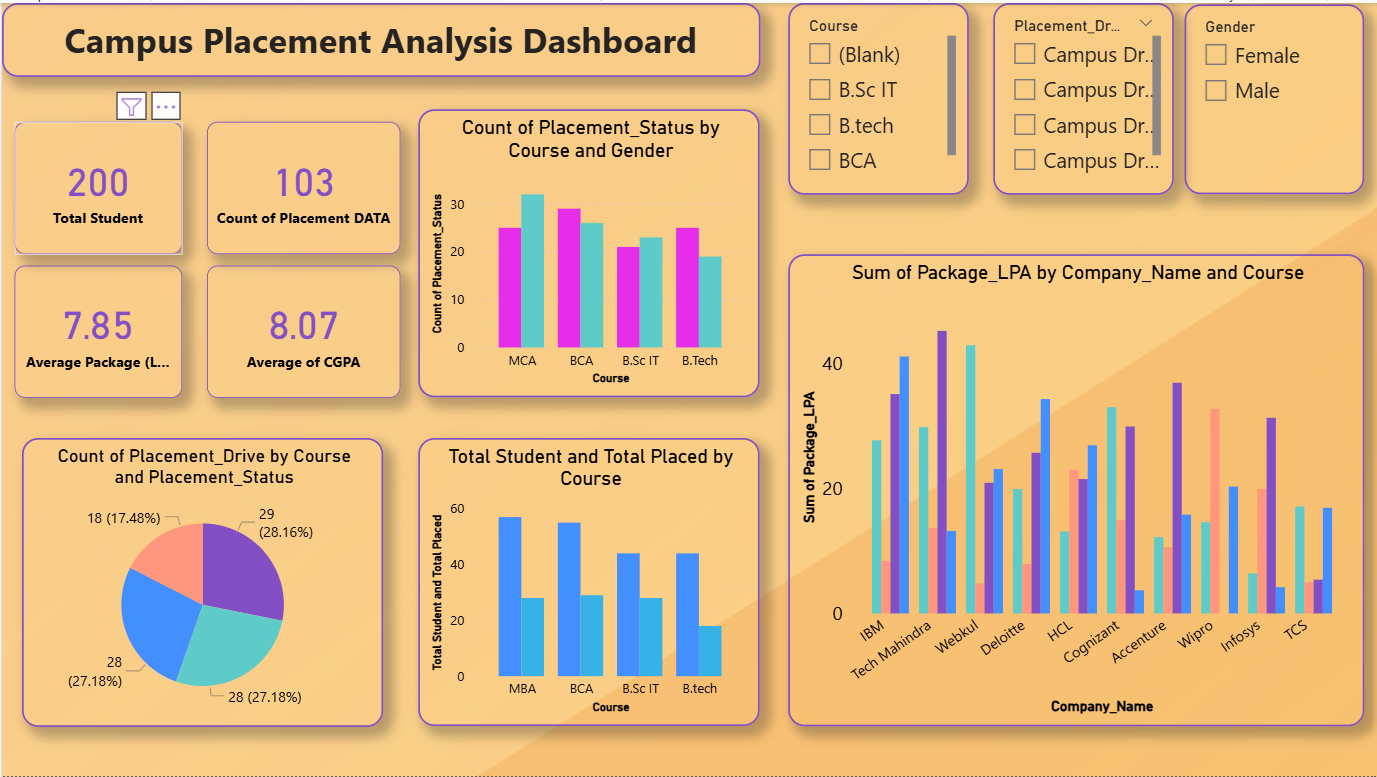

The page's visual inventory and layout, read from the dashboard file:
{"tool":"powerbi","page":{"name":"Page 1","canvas":[1280,720],"ordinal":0},"visuals":[{"type":"card","fields":{"Values":["Avg(Placement DATA.Package_LPA)"]},"box":[11.6,244.2,155.8,123.3],"z":0},{"type":"textbox","box":[0,0,705.7,68.4],"z":1000},{"type":"lineClusteredColumnComboChart","fields":{"Category":["Chart.Course "],"Y":["Sum(Chart.Total Student)","Sum(Chart.Placed )"]},"box":[387.8,405.2,318,268.3],"z":2000},{"type":"clusteredColumnChart","fields":{"Category":["Placement DATA.Course"],"Series":["Placement DATA.Gender"],"Y":["CountNonNull(Placement DATA.Placement_Status)"]},"box":[387.8,99.3,318,268.3],"z":3000},{"type":"pieChart","fields":{"Category":["Placement DATA.Course"],"Y":["CountNonNull(Placement DATA.Placement_Drive)"],"Series":["Placement DATA.Placement_Status"]},"box":[18.6,404.7,336,268.6],"z":4000},{"type":"slicer","fields":{"Values":["Chart.Course "]},"box":[731.2,0,167.7,178.4],"z":5000},{"type":"slicer","fields":{"Values":["Placement DATA.Placement_Drive"]},"box":[921.8,0,167.7,178.4],"z":6000},{"type":"lineClusteredColumnComboChart","fields":{"Category":["Placement DATA.Company_Name"],"Y":["Sum(Placement DATA.Package_LPA)"],"Series":["Placement DATA.Course"]},"box":[731.4,233.7,536,439.5],"z":7000},{"type":"slicer","fields":{"Values":["Placement DATA.Gender"]},"box":[1100,1.2,167.4,176.7],"z":8000},{"type":"card","fields":{"Values":["Sum(Chart.Total Student)"]},"box":[11.6,110.5,155.8,123.3],"z":9000},{"type":"card","fields":{"Values":["Count(Placement DATA)"]},"box":[190.7,110.5,180.2,123.3],"z":10000},{"type":"card","fields":{"Values":["Avg(Placement DATA.CGPA)"]},"box":[190.7,244.2,180.2,123.3],"z":11000}]}

Visuals, with their boxes in screenshot pixels (x1, y1, x2, y2), scaled from the page's 1280x720 canvas onto the 1377x777 screenshot:
card - Avg(Placement DATA.Package_LPA): 12, 264, 180, 397
textbox: 0, 0, 759, 74
lineClusteredColumnComboChart - Chart.Course  x Sum(Chart.Total Student): 417, 437, 759, 727
clusteredColumnChart - Placement DATA.Course x Placement DATA.Gender: 417, 107, 759, 397
pieChart - Placement DATA.Course x CountNonNull(Placement DATA.Placement_Drive): 20, 437, 381, 727
slicer - Chart.Course : 787, 0, 967, 193
slicer - Placement DATA.Placement_Drive: 992, 0, 1172, 193
lineClusteredColumnComboChart - Placement DATA.Company_Name x Sum(Placement DATA.Package_LPA): 787, 252, 1363, 726
slicer - Placement DATA.Gender: 1183, 1, 1363, 192
card - Sum(Chart.Total Student): 12, 119, 180, 252
card - Count(Placement DATA): 205, 119, 399, 252
card - Avg(Placement DATA.CGPA): 205, 264, 399, 397
